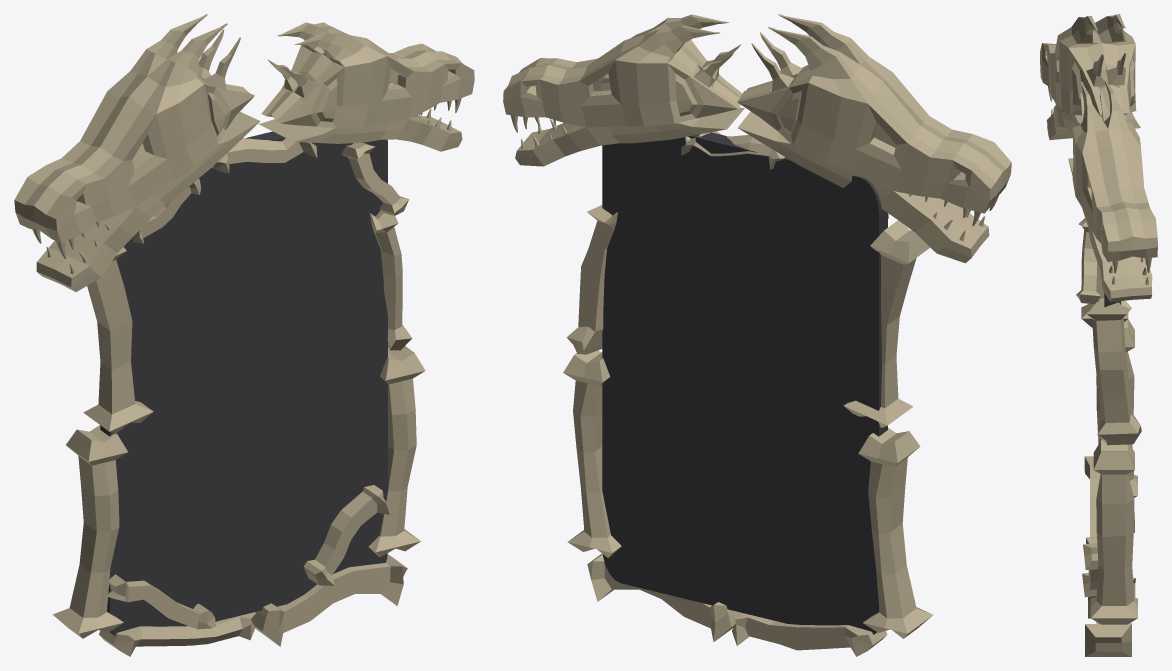
The model's file is DinoPanel-Leaderboard.gltf.
3 views of the same model, side by side, from view 1: azimuth 30°, elevation 25°; view 2: azimuth 150°, elevation 25°; view 3: azimuth 270°, elevation 25° (orthographic). The views are drawn at different scales.
Parts seen in each view (by area): view 1: DinoPanel-Leaderboard; view 2: DinoPanel-Leaderboard; view 3: DinoPanel-Leaderboard.
Boxes of the visible parts, box(x1,y1,x2,y2) form: DinoPanel-Leaderboard: box(14, 14, 474, 656); DinoPanel-Leaderboard: box(503, 14, 1011, 656); DinoPanel-Leaderboard: box(1040, 14, 1157, 656).
Bounding box in the file's own units: 502 × 650 × 122.
